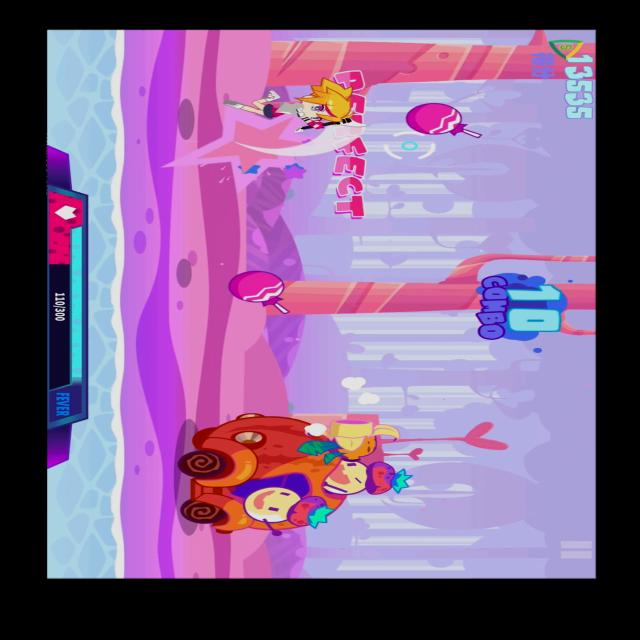Boss-Pumpkin: (170, 407, 418, 539)
Ground Monster - Candy: (391, 98, 496, 152), (214, 268, 304, 318)
